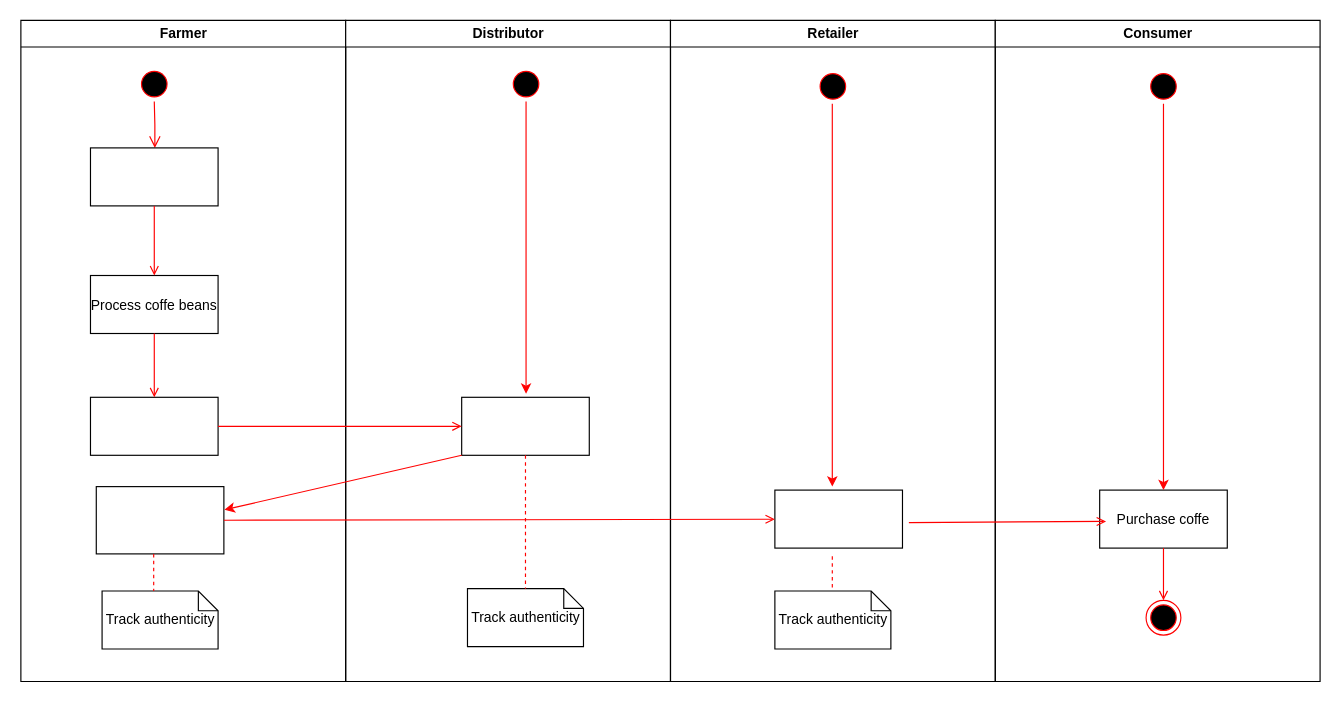
This 1340x702 diagram has some shape labels left out. The shapes that lost their labels are listed below. From the top down, each one's centre as x and y in pixels, then its label:
pixel 153 176: Harvest coffe beans
pixel 153 425: Pack coffe palettes
pixel 525 425: Buy coffe palettes
pixel 159 519: Ship coffe palettes
pixel 838 518: Receive coffe
